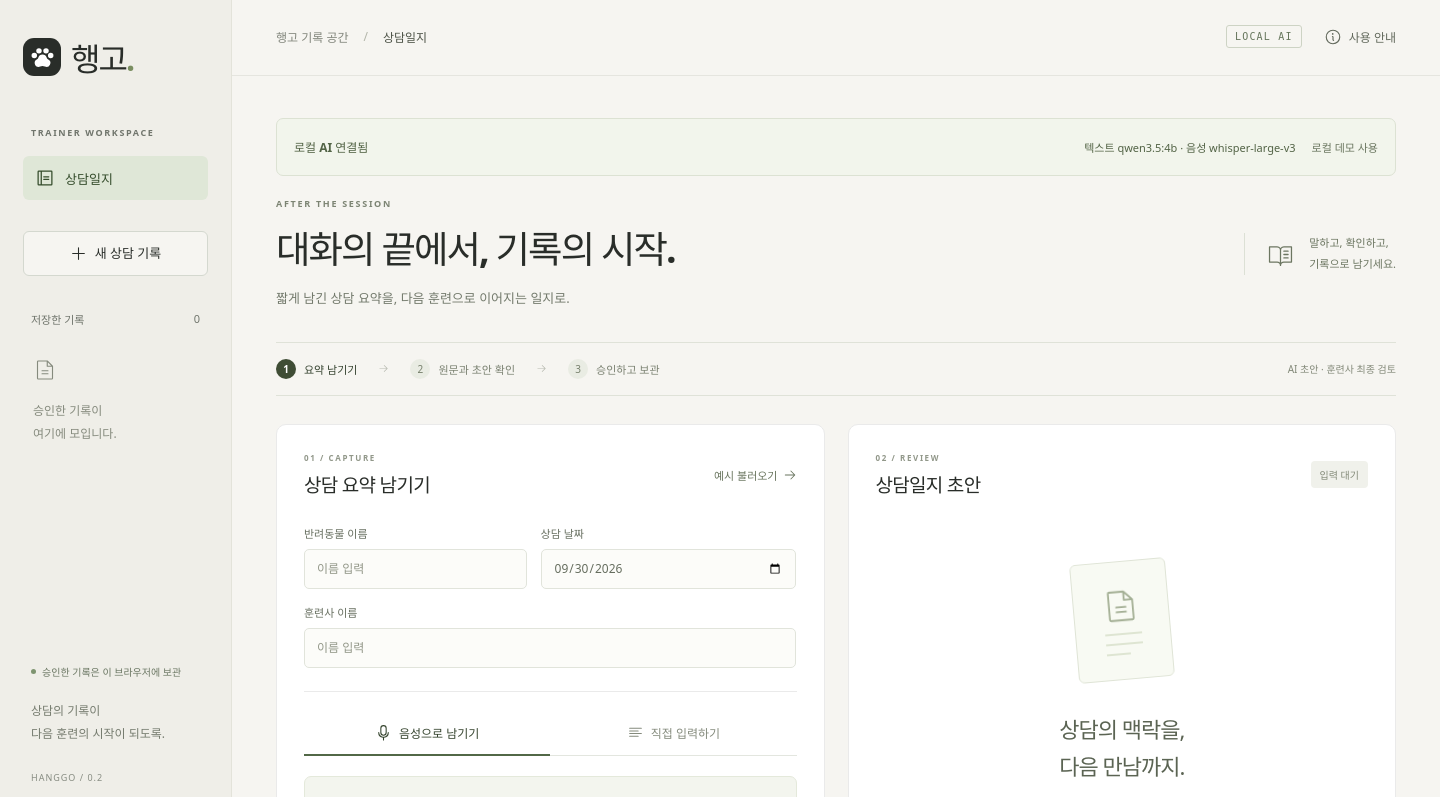
labels local AI separately from the rules demo and keeps model provenance after saving
The image size is (1440, 797).
Click the button "예시 불러오기" at (755, 475), box [714, 460, 796, 490]
(page scrolled)
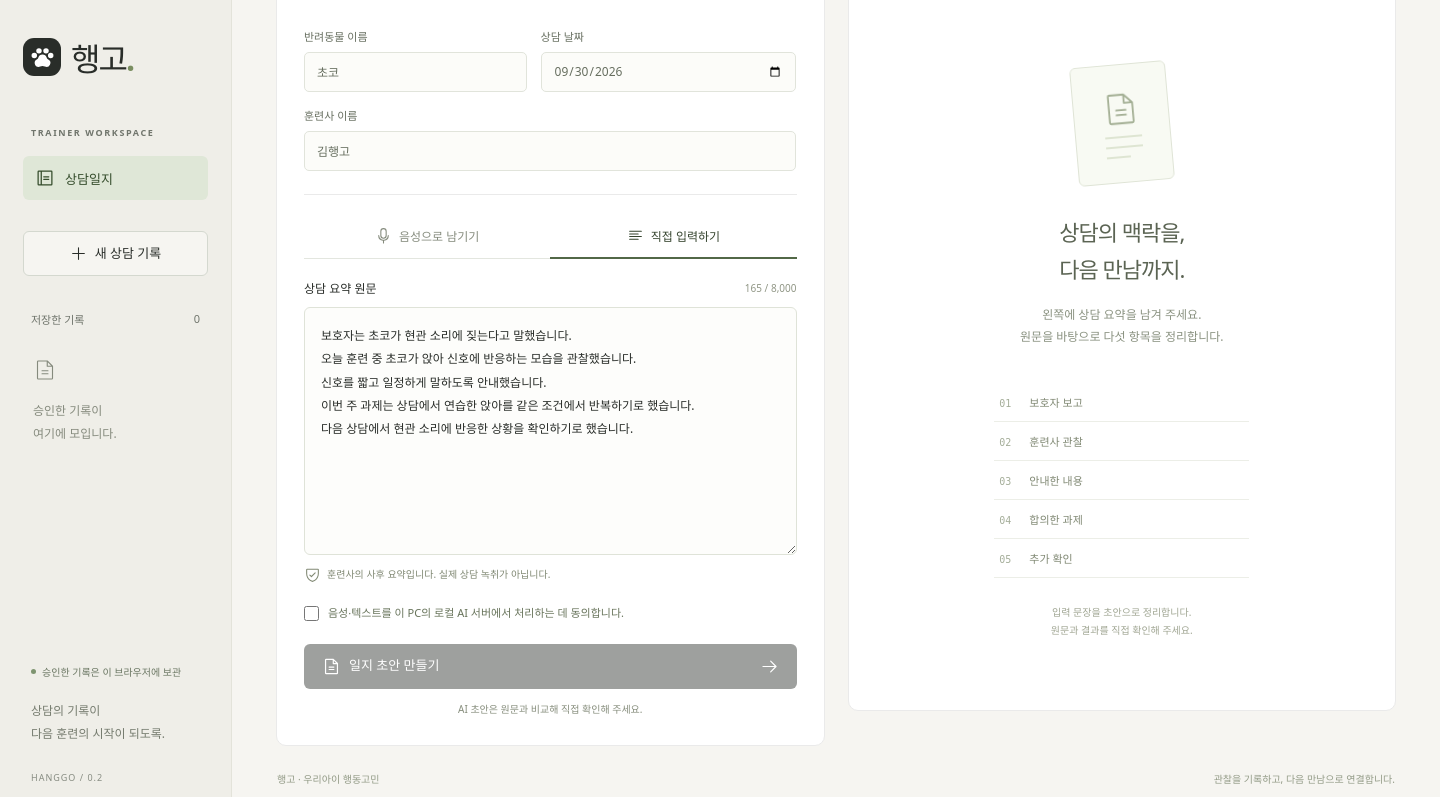
Click the checkbox labelled "음성·텍스트를 이 PC의 로컬 AI 서버에서 처리하는 데 동의합니다." at (312, 613), box [304, 606, 319, 621]
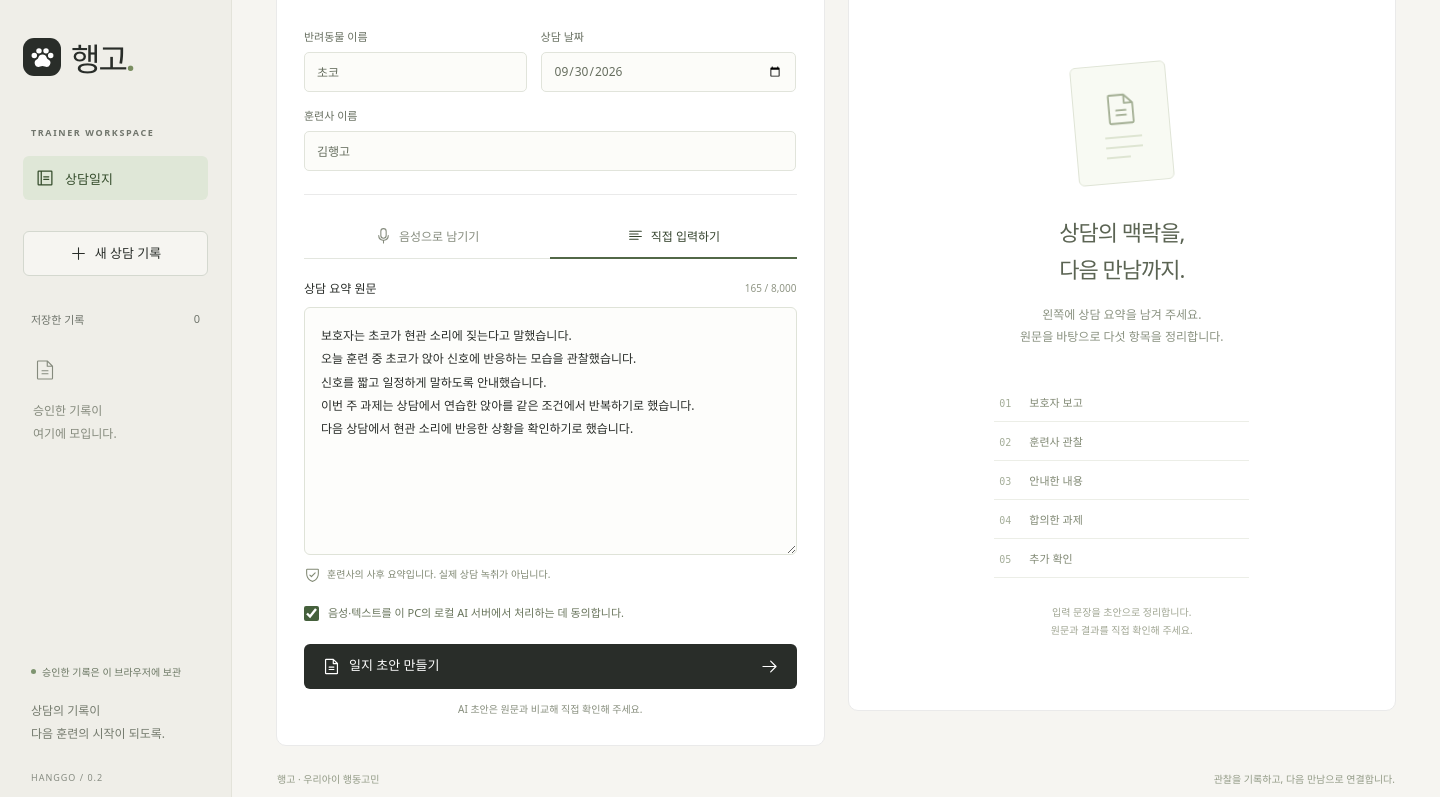
Click the button "일지 초안 만들기" at (394, 665), box [304, 644, 796, 689]
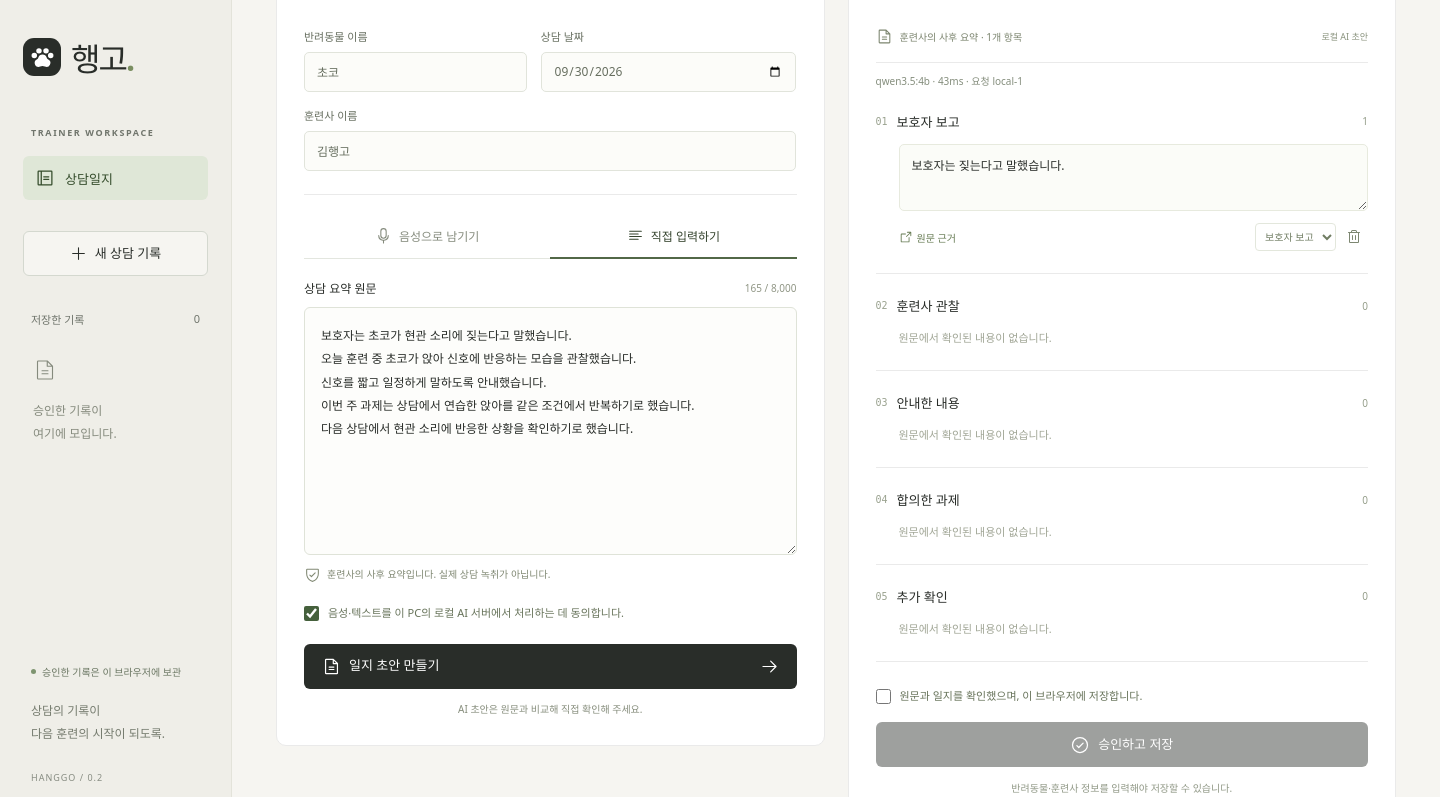
Result: the text "로컬 AI 초안" is shown at [1321, 30, 1368, 43]
Result: the text "qwen3.5:4b · 43ms · 요청 local-1" is shown at [876, 74, 1023, 88]
Click the checkbox labelled "원문과 일지를 확인했으며, 이 브라우저에 저장합니다." at (883, 696), box [876, 689, 890, 704]
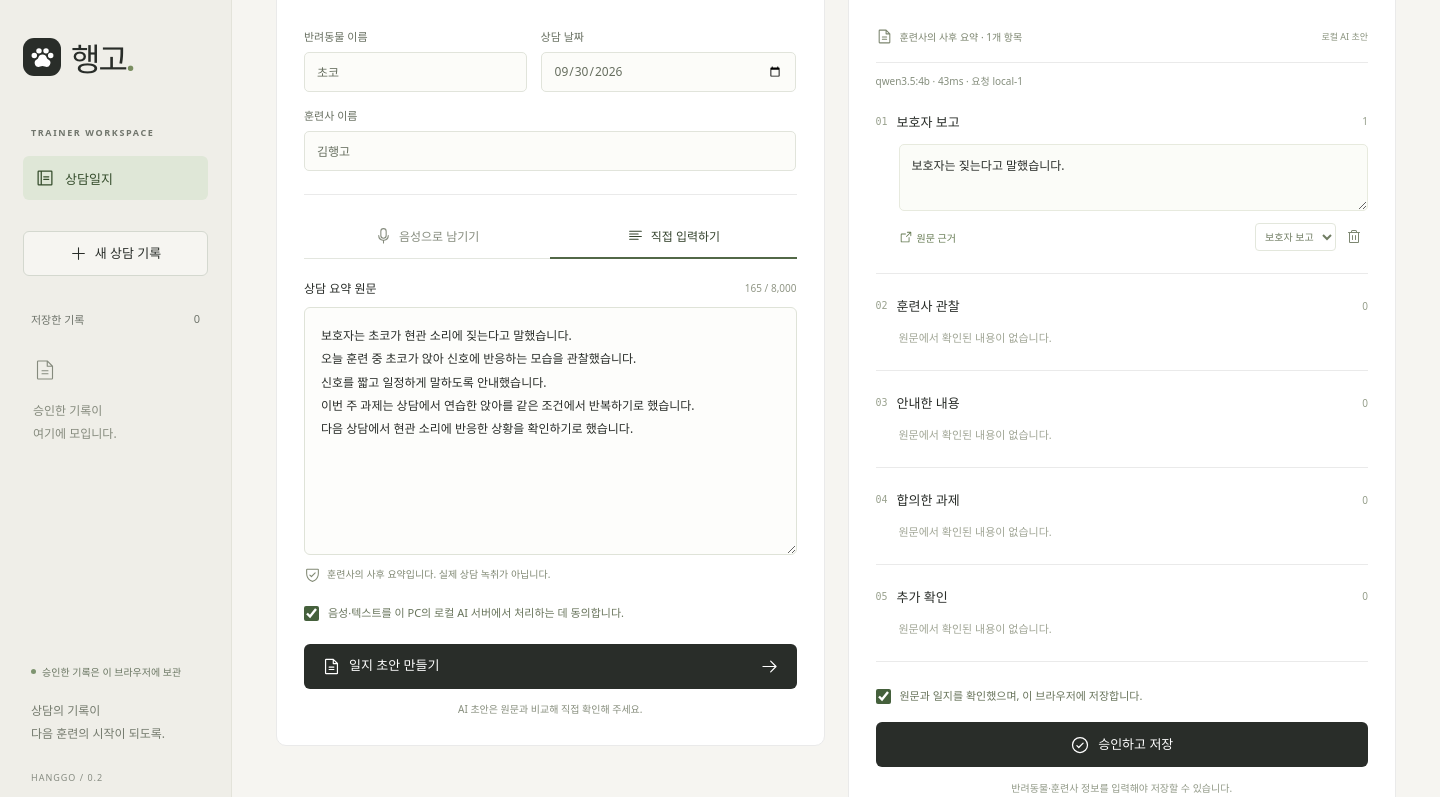
Click the button "승인하고 저장" at (1122, 745), box [876, 722, 1368, 768]
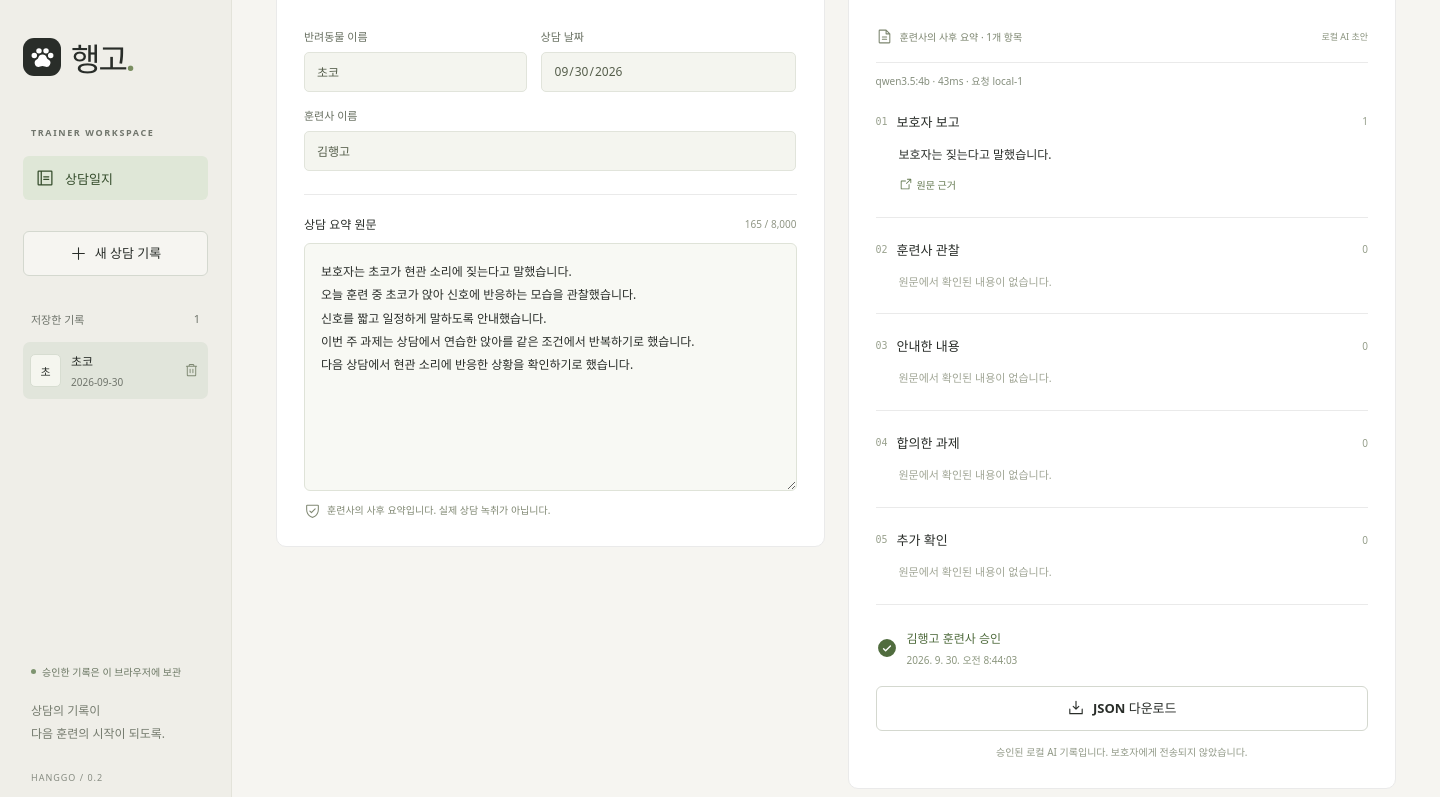
Result: the text "승인된 로컬 AI 기록입니다. 보호자에게 전송되지 않았습니다." is shown at [996, 745, 1248, 759]
